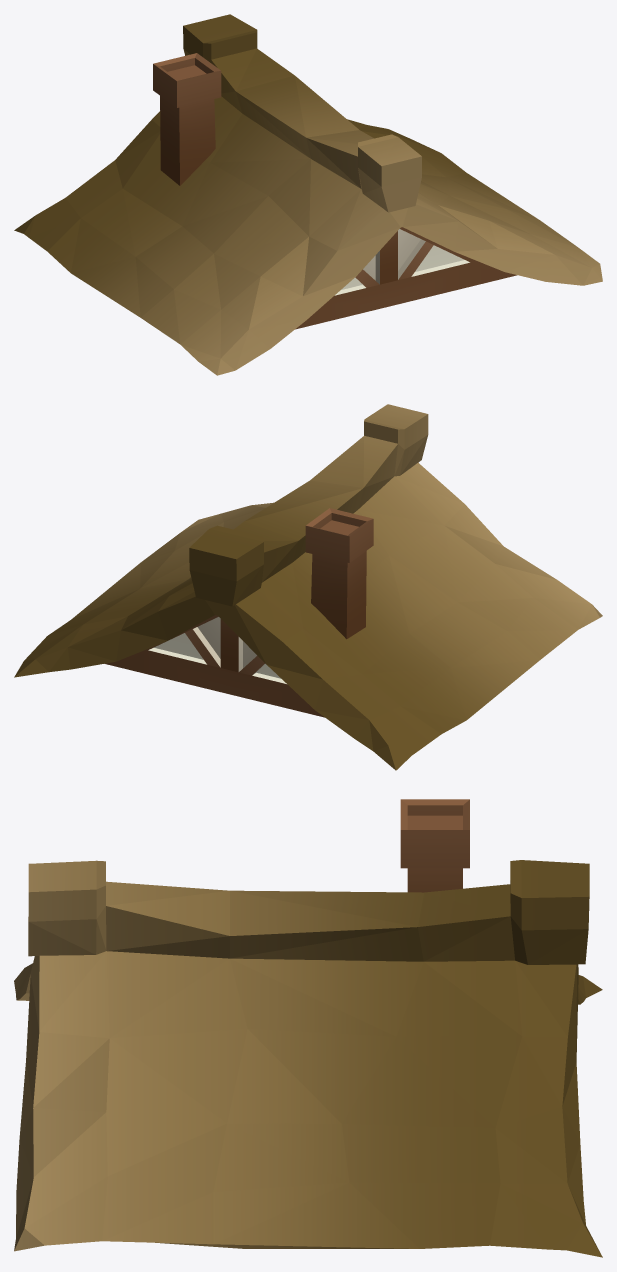
Rendered from House_4x5_RoofFull.gltf.
3 views of the same model, one above another, from view 1: azimuth 30°, elevation 25°; view 2: azimuth 150°, elevation 25°; view 3: azimuth 270°, elevation 25° (orthographic). The views are drawn at different scales.
Parts seen in each view (by area): view 1: House_4x5_RoofFull; view 2: House_4x5_RoofFull; view 3: House_4x5_RoofFull.
Part boxes in pixels (left/top/right/bottom): House_4x5_RoofFull: left=14, top=14, right=602, bottom=375; House_4x5_RoofFull: left=14, top=404, right=602, bottom=770; House_4x5_RoofFull: left=14, top=799, right=602, bottom=1257.
Bounding box in the file's own units: 6.03 × 2.55 × 5.33.
1 material, 1 textured.
